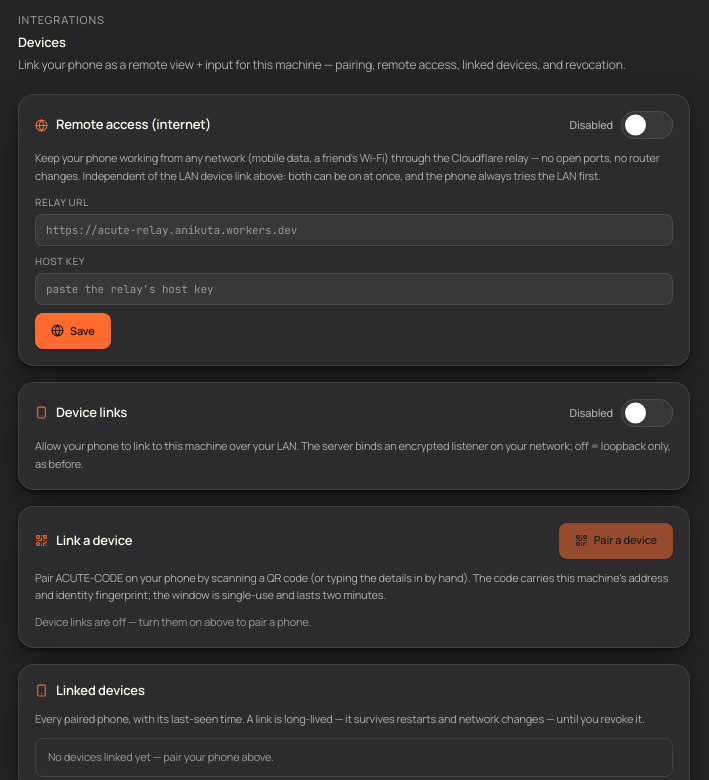
Scenario: DevicesTab (ROUND-106 R106-S2) › §a: a failed enable rolls the switch back to OFF with the honest error (the setting stays off)
Click the switch named "Toggle device links" at [647, 413], box [621,399,673,427]
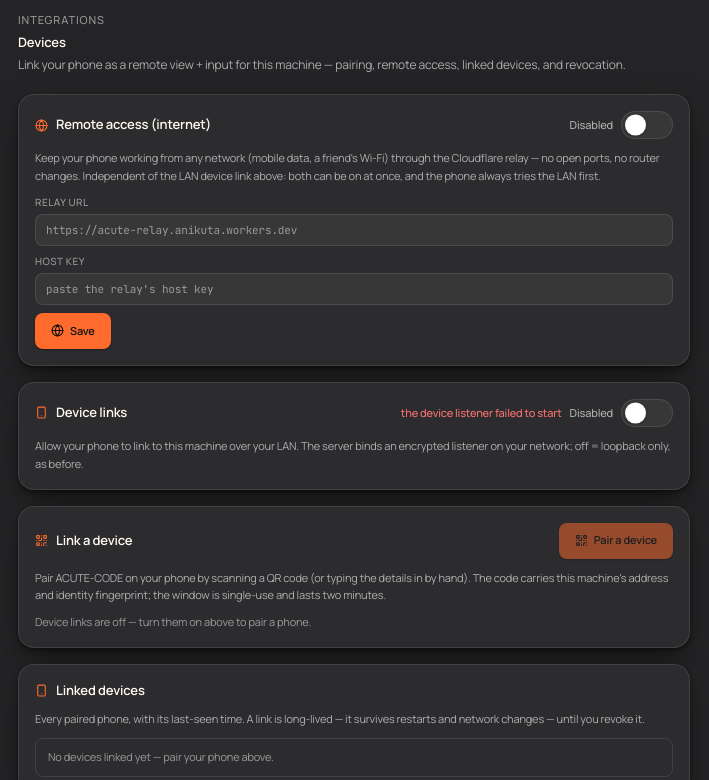
Result: the text "the device listener failed to start" is shown at [401,404,562,421]
